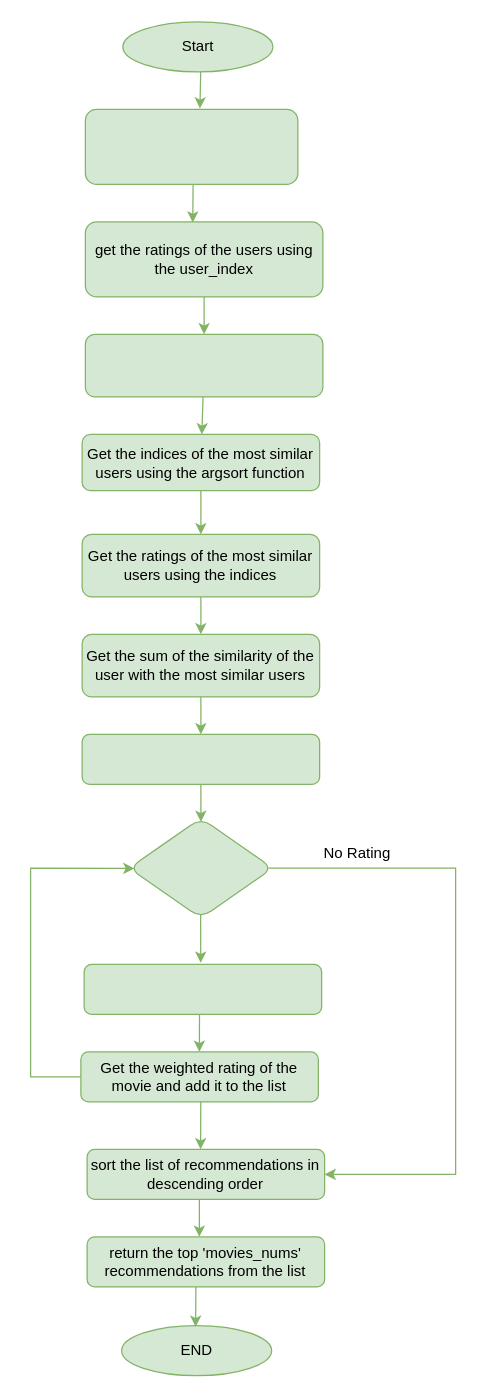
Image size: 488x1398. Some labels were removed from this diagram. The shapes that lost their labels are listed below. From the top down, each one's box as (x1, y1, x2, y2) in pixels, then its label:
(84, 108, 298, 184): Get the index of the user from the pivot table using the user_id
(84, 333, 323, 397): Calculate the similarity of the user with other users using similarity_scores
(81, 733, 320, 784): initialize an empty list to store the recommended movies
(128, 817, 273, 918): for each Rating
(83, 963, 322, 1014): Get the weight of the rating
